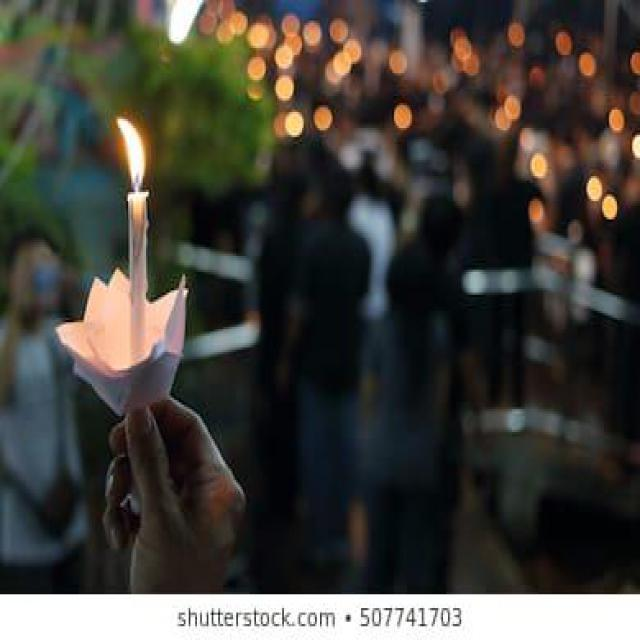Fire: (116, 111, 151, 191)
